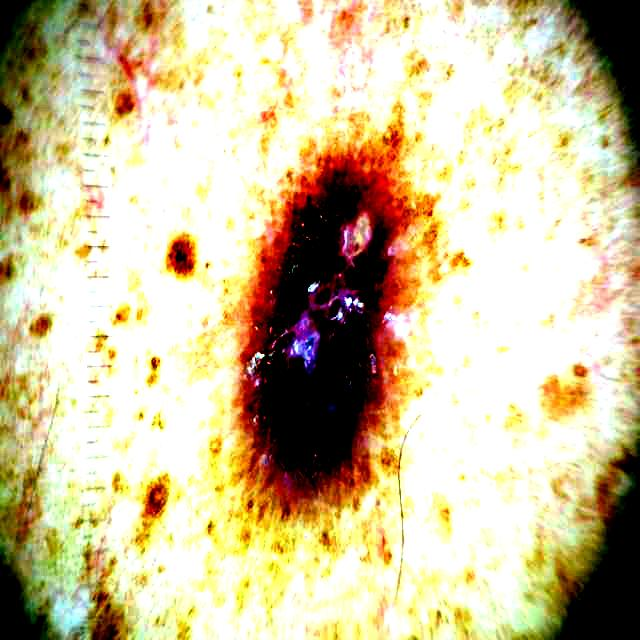DF: (247, 169, 397, 483)
